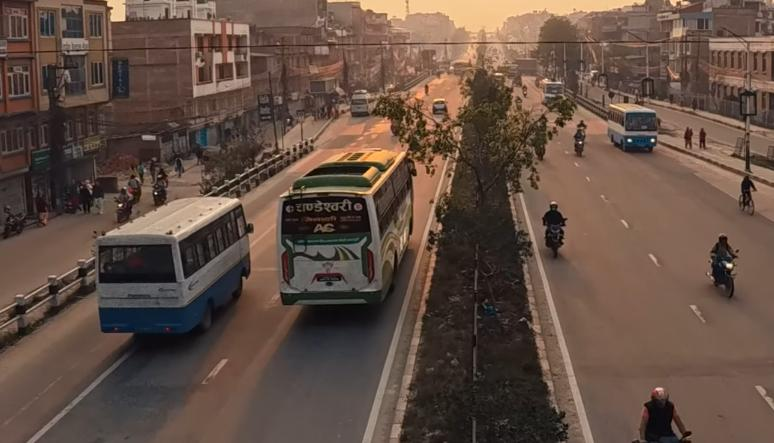bus: (272, 139, 421, 311), (91, 190, 254, 346)
